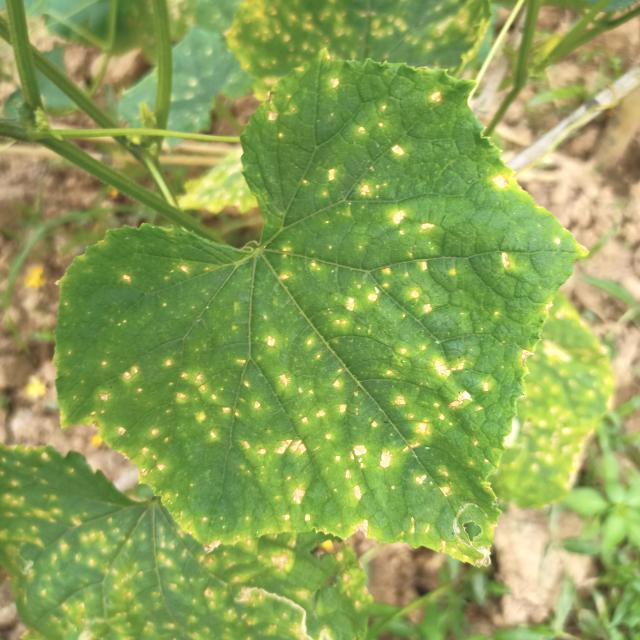disease_cucumber: (67, 250, 560, 544), (251, 67, 453, 247), (485, 172, 516, 204)
